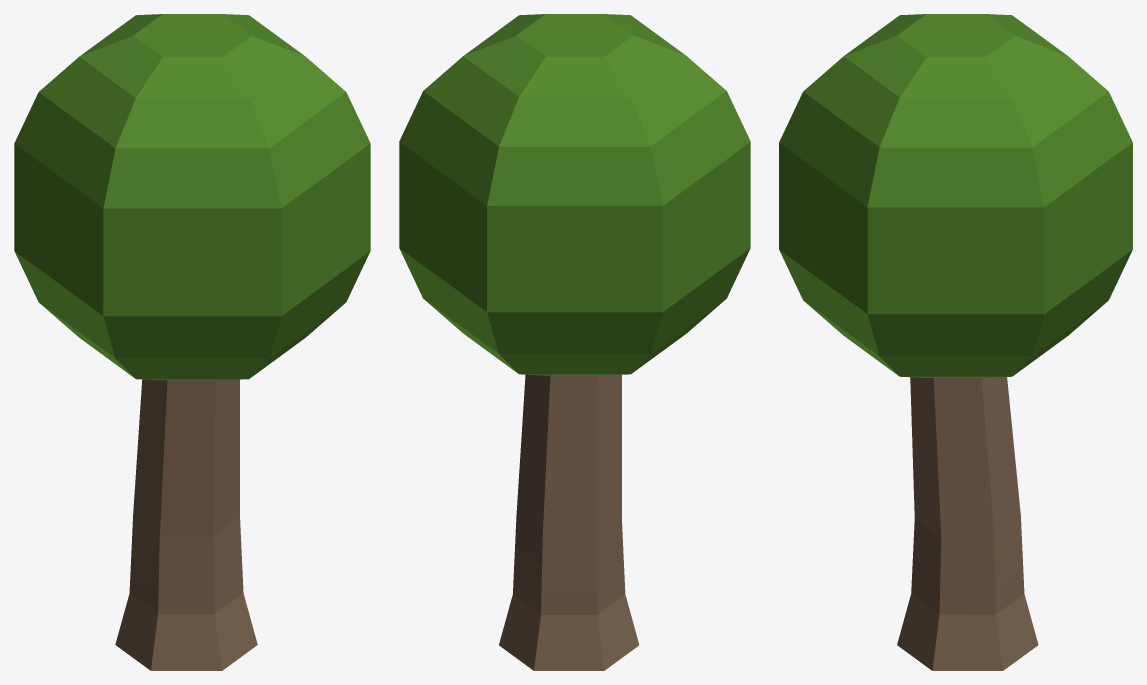
The model's file is Hilly_Prop_Tree_Oak_1.obj.
The picture shows the model from 3 angles, left to right: view 1: azimuth 30°, elevation 25°; view 2: azimuth 150°, elevation 25°; view 3: azimuth 270°, elevation 25°; orthographic projection.
Parts seen in each view (by area): view 1: object1, object2; view 2: object1, object2; view 3: object1, object2.
Part boxes in pixels (x1,y1,x2,y2): object1: (14,14,370,380); object2: (115,379,257,670); object1: (399,14,750,375); object2: (499,374,639,670); object1: (779,14,1132,377); object2: (897,377,1038,670).
Bounding box in the file's own units: 1.3 × 2.85 × 1.5.
